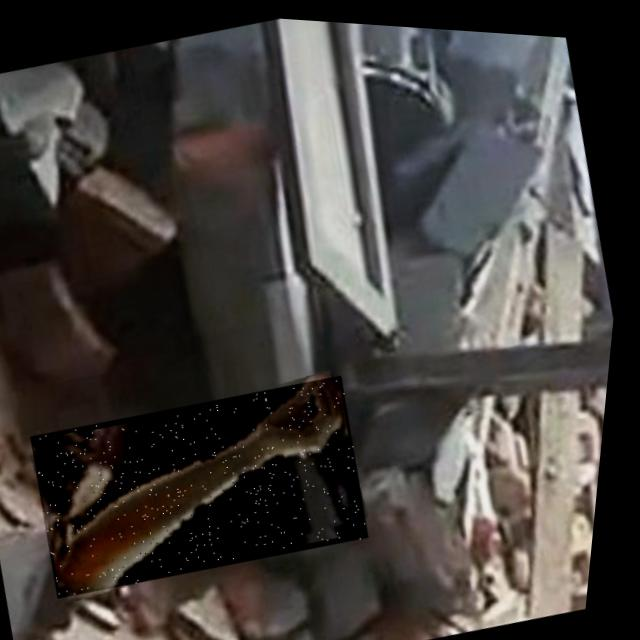Person in Rubble: (26, 354, 390, 613)
